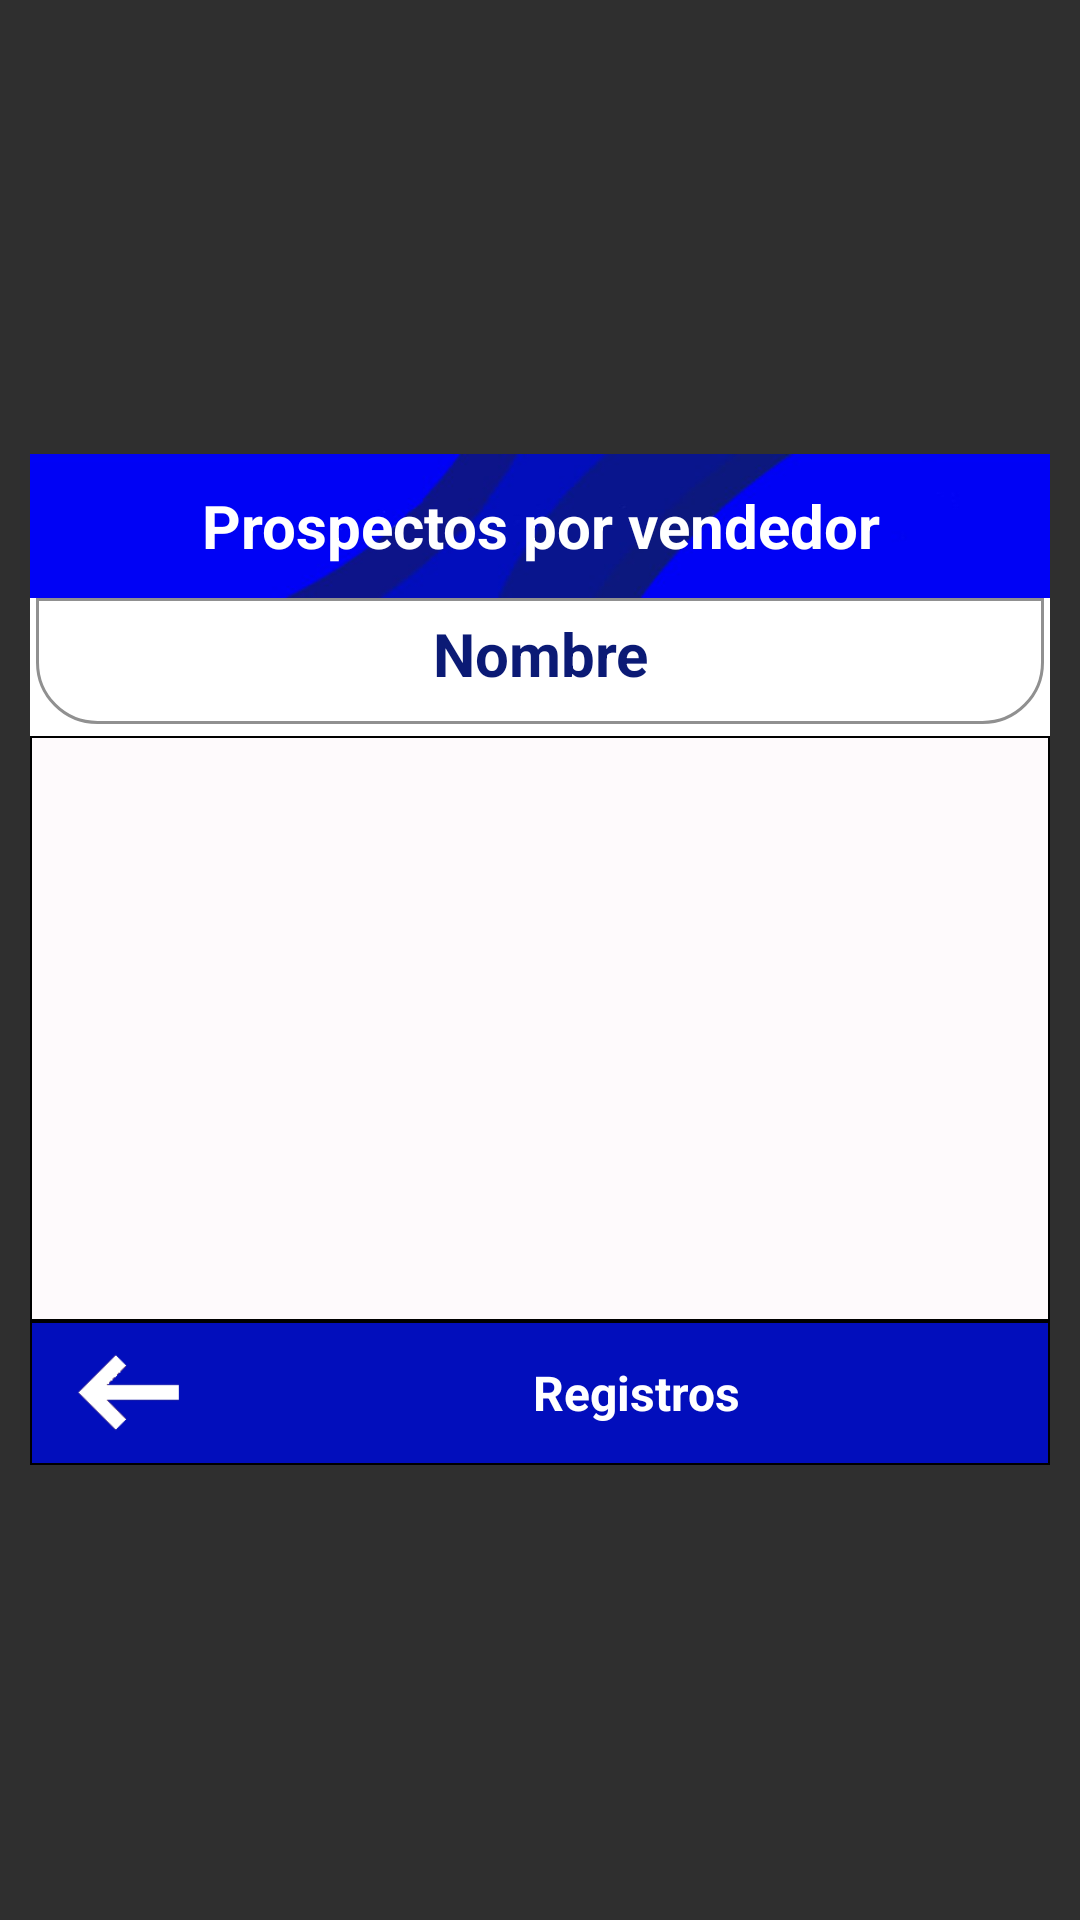

Where to tap for icons on this 1080x1920 app screen, as [x,y]:
arr back: [126,1393]
